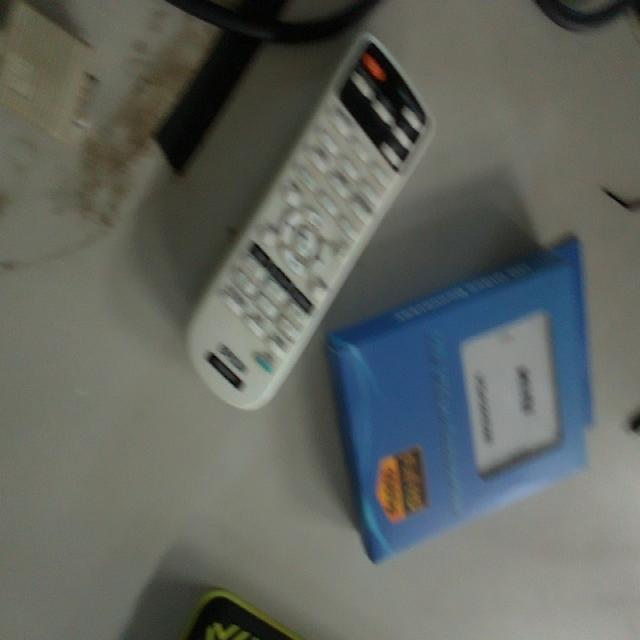remote: (184, 30, 435, 422), (331, 233, 600, 565)
